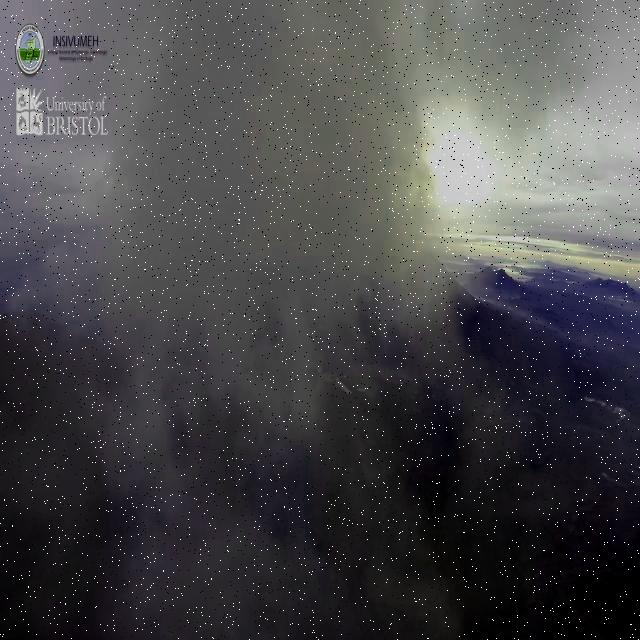Plume: (7, 4, 522, 640)
